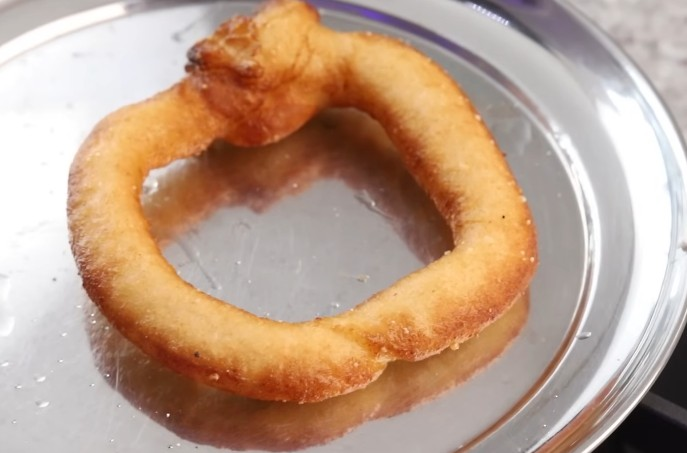sel_roti: (70, 47, 539, 402)
